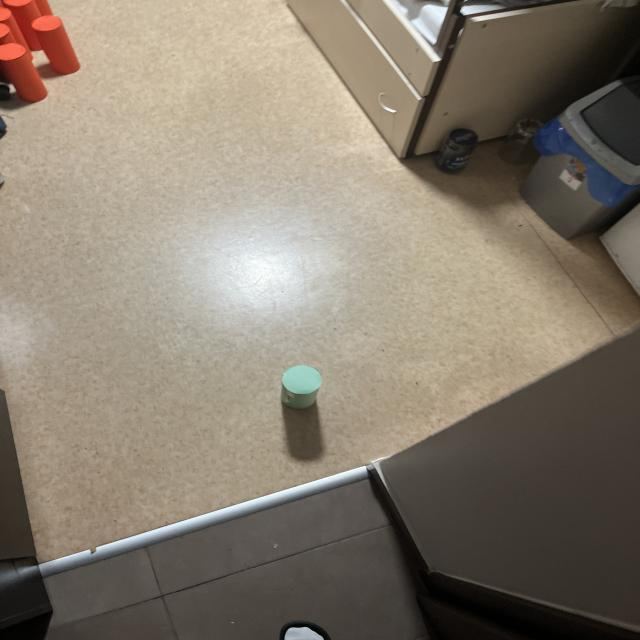meta: (281, 365, 322, 409)
